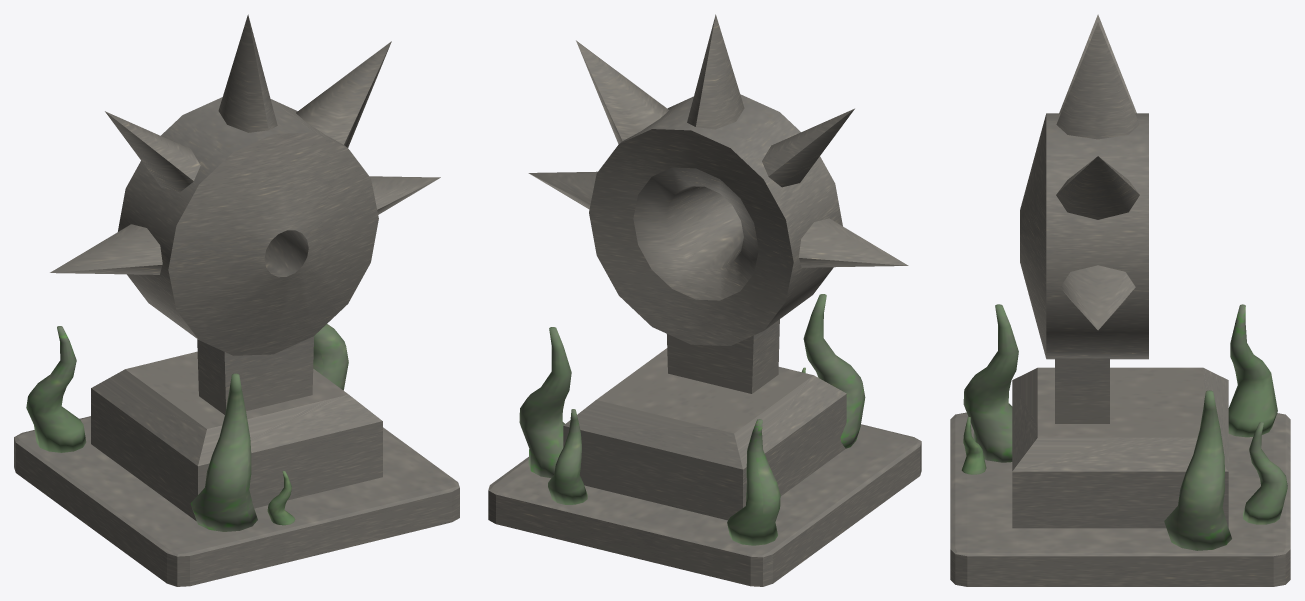
File: altar.fbx
The picture shows the model from 3 angles, left to right: view 1: azimuth 30°, elevation 25°; view 2: azimuth 150°, elevation 25°; view 3: azimuth 270°, elevation 25°; orthographic projection. The views are drawn at different scales.
Parts seen in each view (by area): view 1: 0_altar; view 2: 0_altar; view 3: 0_altar.
Boxes of the visible parts, left/top/right/bottom form: 0_altar: left=14, top=14, right=459, bottom=586; 0_altar: left=488, top=14, right=921, bottom=586; 0_altar: left=950, top=14, right=1290, bottom=586.
Bounding box in the file's own units: 602 × 718 × 448.
